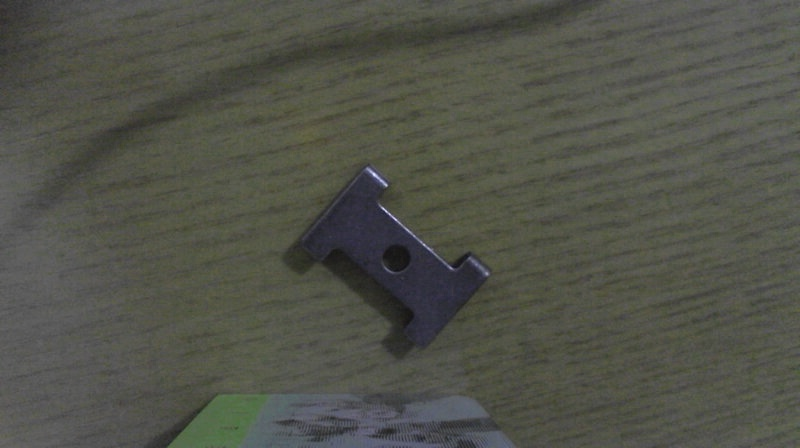O002: (292, 160, 494, 356)
